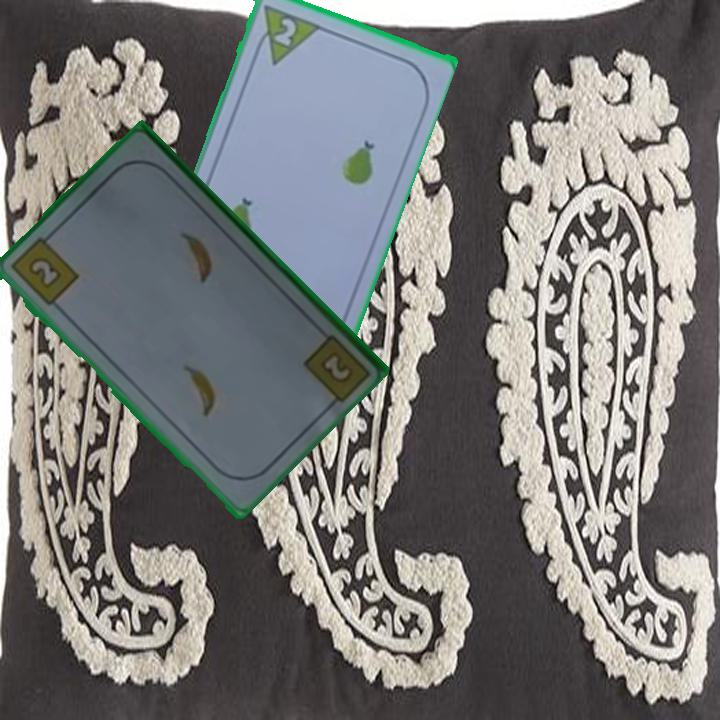2b: (6, 230, 82, 309), (316, 347, 353, 383)
2p: (269, 13, 300, 49)
